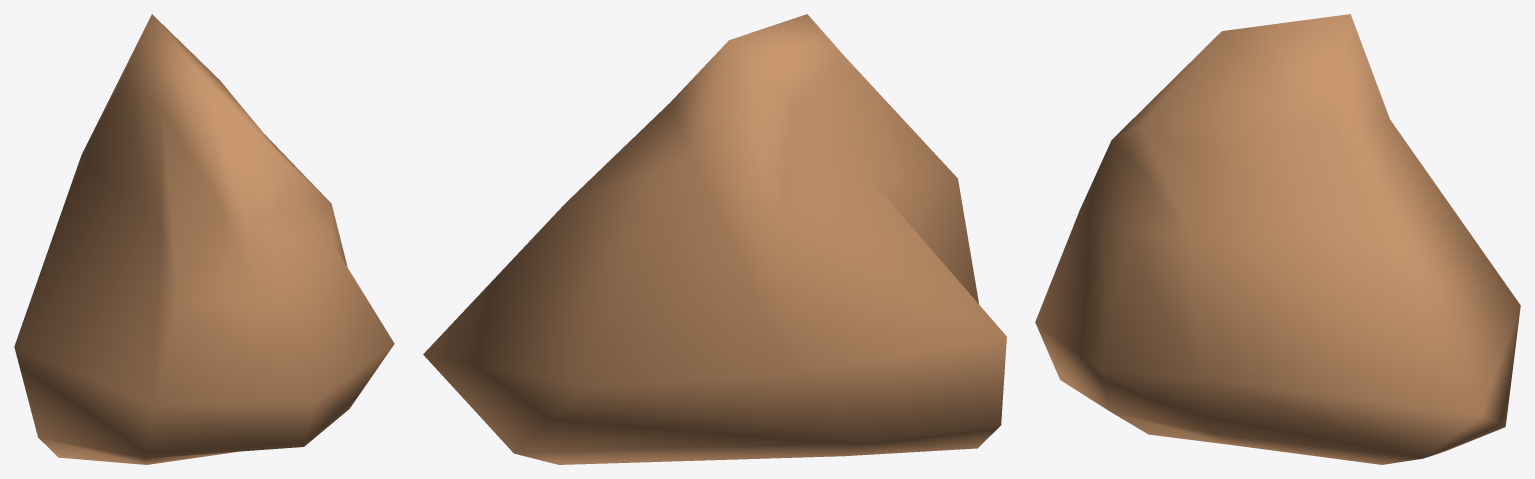
Rendered from Rock_3.fbx.
3 views of the same model, side by side, from view 1: azimuth 30°, elevation 25°; view 2: azimuth 150°, elevation 25°; view 3: azimuth 270°, elevation 25° (orthographic). The views are drawn at different scales.
Visible parts, largest first — view 1: rock_2; view 2: rock_2; view 3: rock_2.
Part boxes in pixels (x1,y1,x2,y2): rock_2: (14,14,394,464); rock_2: (423,14,1006,464); rock_2: (1035,14,1520,464).
Bounding box in the file's own units: 1047 × 935 × 1051.
